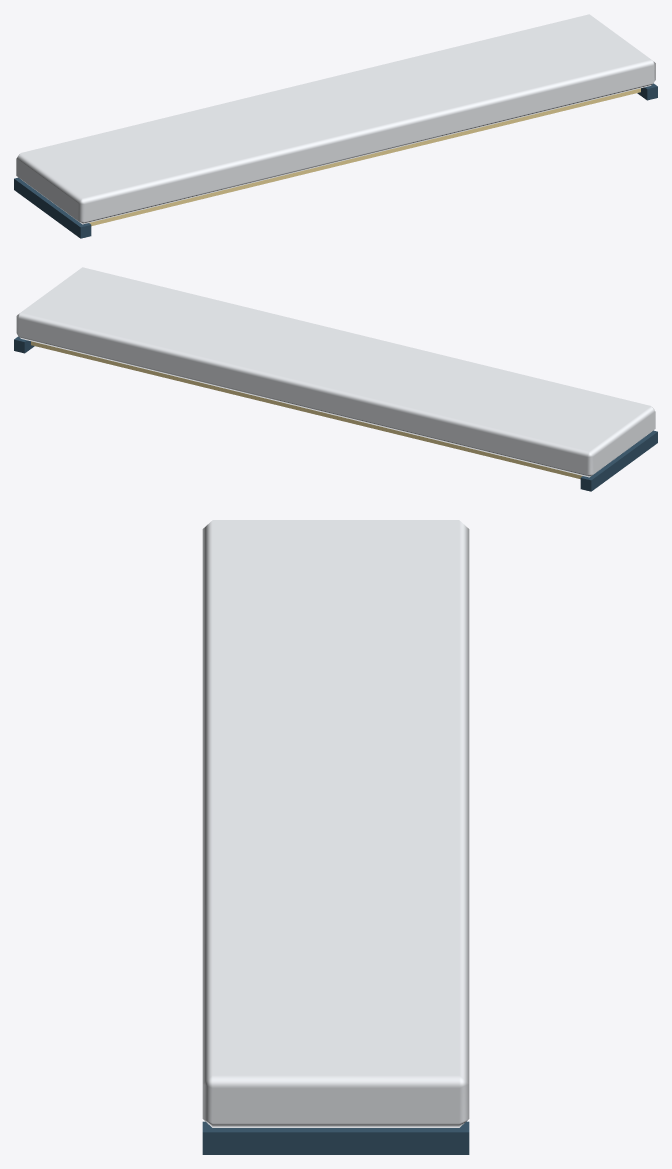
The model's file is CM_Interior_CeilingLight.fbx.
3 views of the same model, one above another, from view 1: azimuth 30°, elevation 25°; view 2: azimuth 150°, elevation 25°; view 3: azimuth 270°, elevation 25° (orthographic). The views are drawn at different scales.
Parts seen in each view (by area): view 1: Body, Light; view 2: Body, Light; view 3: Body.
Boxes of the visible parts, x1,y1,x2,y2 form: Body: [14, 14, 657, 238]; Light: [89, 88, 640, 226]; Body: [14, 267, 657, 491]; Light: [31, 341, 582, 479]; Body: [202, 520, 469, 1154].
Bounding box in the file's own units: 8 × 1.6 × 0.5.
1 material, 1 textured.
